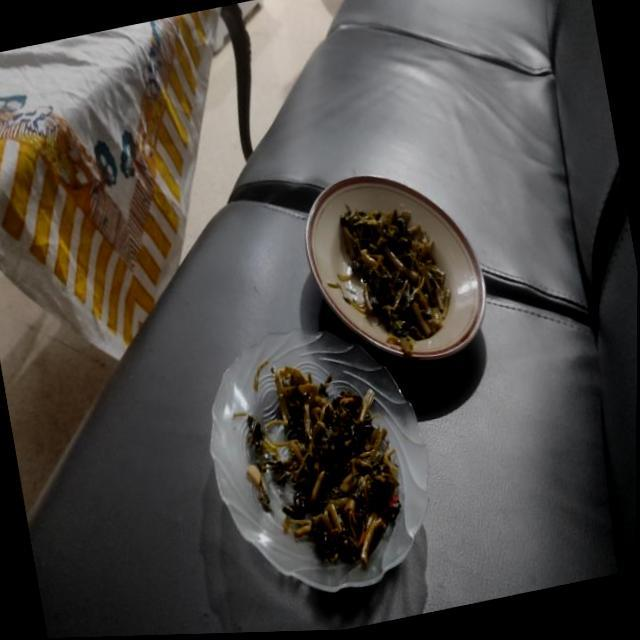tumis_kangkung: (247, 366, 401, 566), (337, 205, 450, 356)
